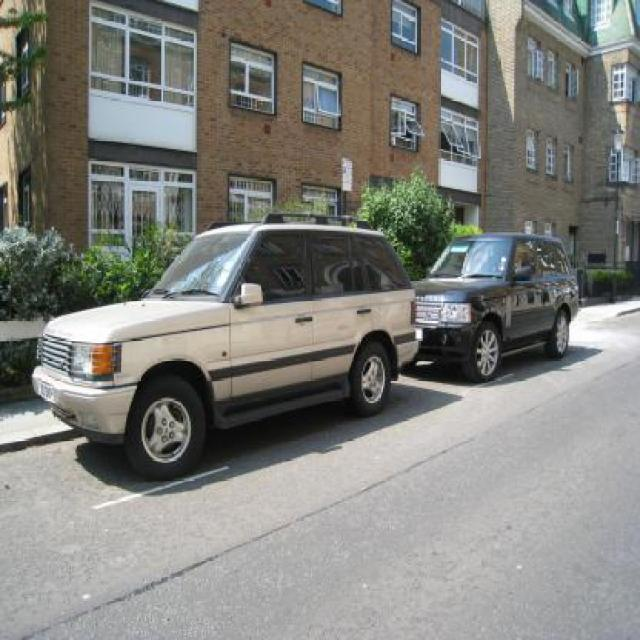License-Plates: (37, 378, 60, 406), (415, 328, 423, 340)
